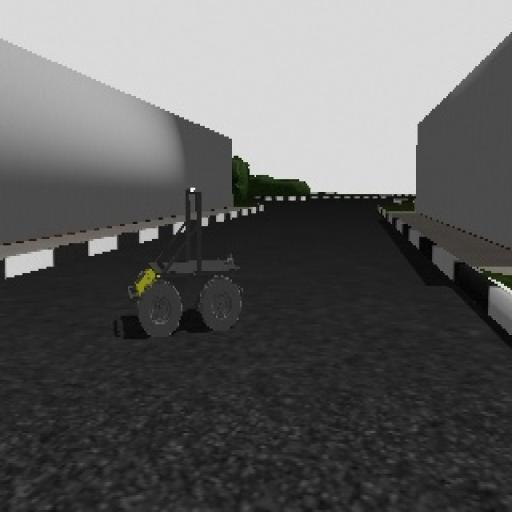huskya200: (127, 165, 255, 355)
